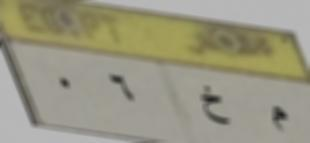0: (53, 71, 76, 95)
6: (109, 71, 139, 105)
khaa: (193, 80, 239, 128)
meem: (263, 95, 294, 139)
